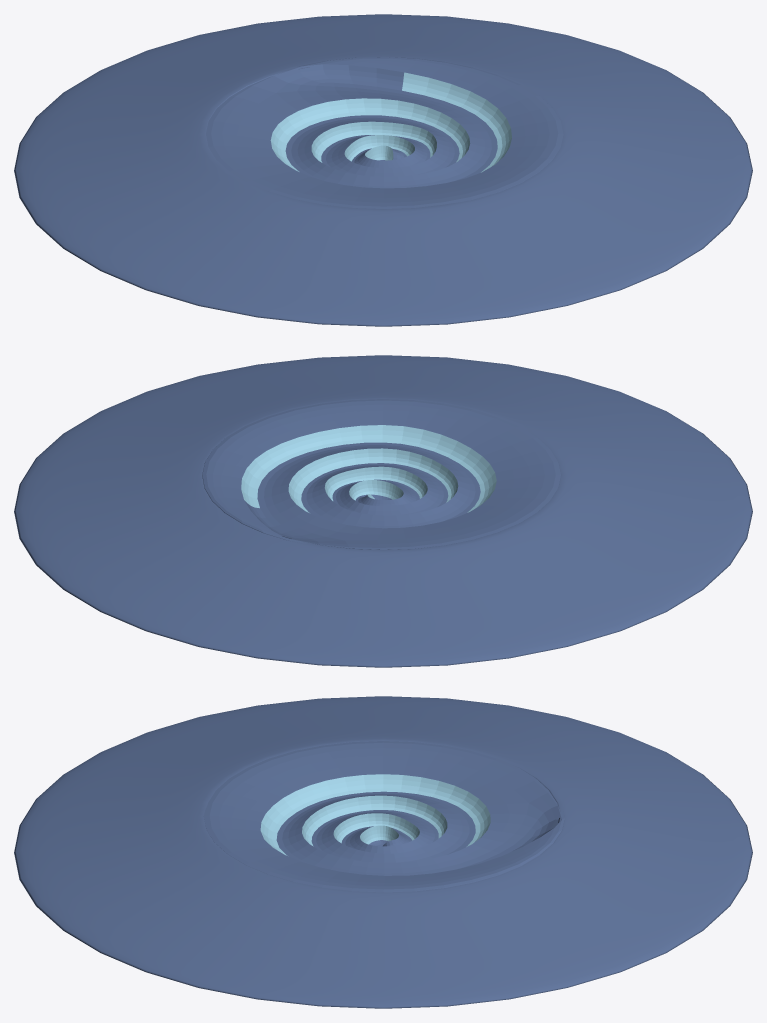
Rendered from whirlpool.fbx.
3 renders of one model, top to bottom at view 1: azimuth 30°, elevation 25°; view 2: azimuth 150°, elevation 25°; view 3: azimuth 270°, elevation 25°, orthographic.
Visible parts, largest first — view 1: WHIRLPOOL_BASE, WHIRLPOOL; view 2: WHIRLPOOL_BASE, WHIRLPOOL; view 3: WHIRLPOOL_BASE, WHIRLPOOL.
Part boxes in pixels (x1,y1,x2,y2): WHIRLPOOL_BASE: (14,14,752,326); WHIRLPOOL: (206,57,563,208); WHIRLPOOL_BASE: (14,355,752,667); WHIRLPOOL: (202,399,560,549); WHIRLPOOL_BASE: (14,696,752,1008); WHIRLPOOL: (204,741,564,892).
Bounding box in the file's own units: 2040 × 130 × 2040.
